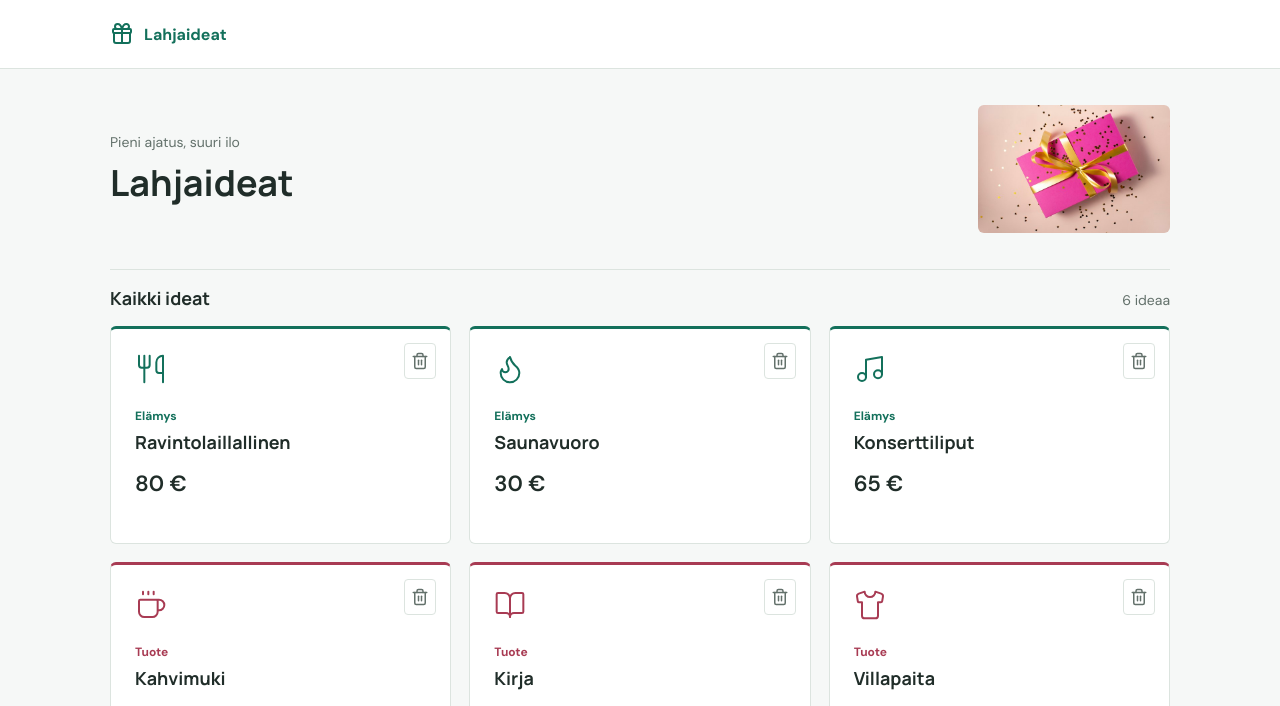
Scenario: gift ideas screen › deletes a gift idea
Check: the heading "Kirja" is shown, box [494,666,534,690]
Click the button named "Poista Kirja". click: [780, 597]
box: [764,579,796,615]
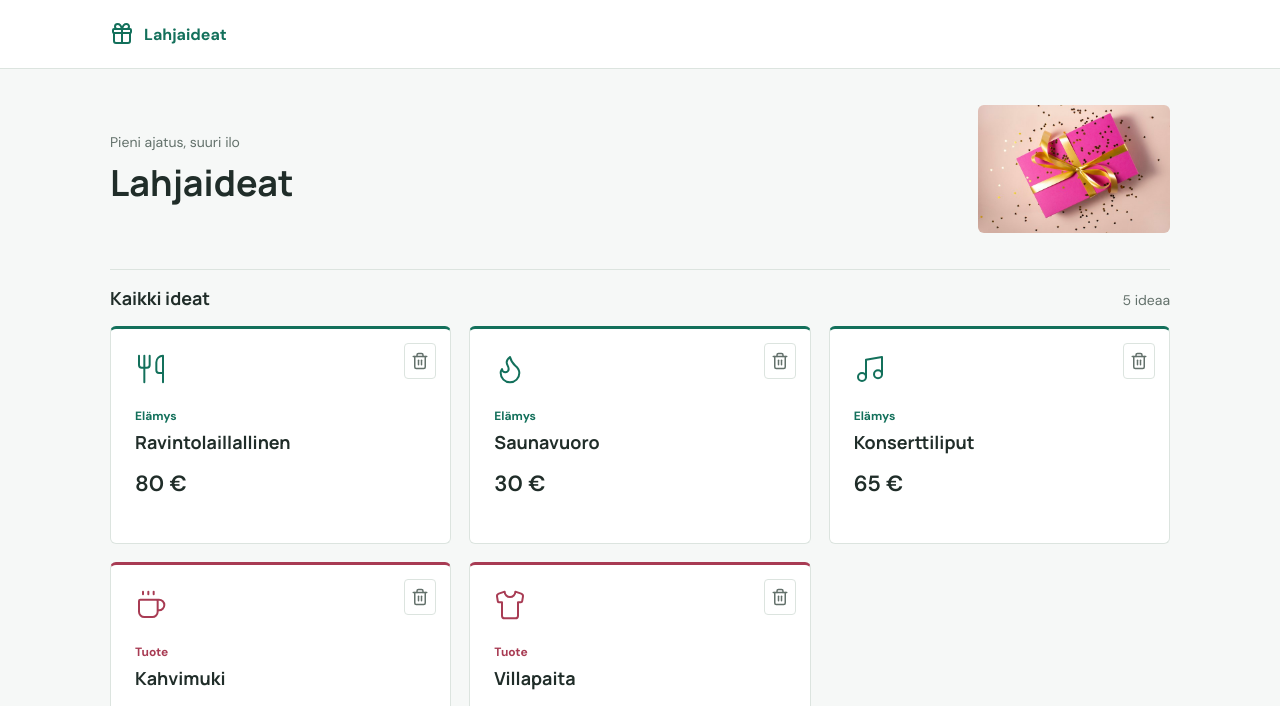
Check: the heading "Kirja" is gone
